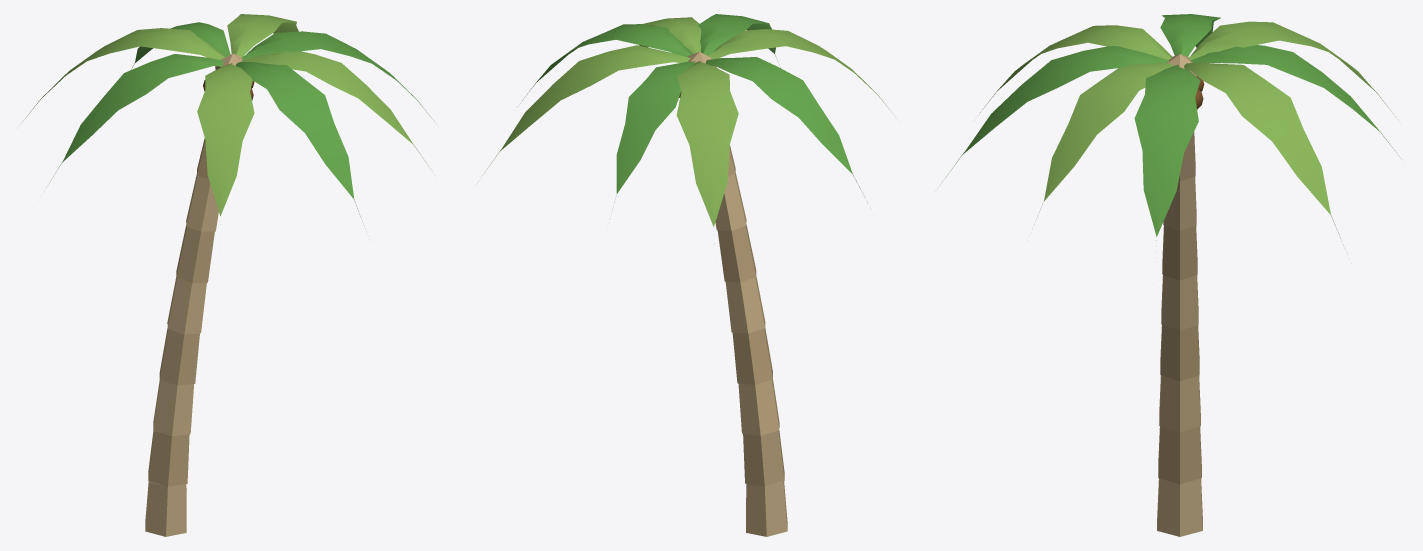
Rendered from beach_palm_tall.glb.
The picture shows the model from 3 angles, left to right: view 1: azimuth 30°, elevation 25°; view 2: azimuth 150°, elevation 25°; view 3: azimuth 270°, elevation 25°; orthographic projection. The views are drawn at different scales.
Visible parts, largest first — view 1: beach_palm_tall; view 2: beach_palm_tall; view 3: beach_palm_tall.
Part boxes in pixels (x1,y1,x2,y2): beach_palm_tall: (21,14,434,536); beach_palm_tall: (478,14,894,536); beach_palm_tall: (942,14,1399,536).
Size of the model in its own units: 4.2 by 4.87 by 4.09.
1 material, 1 textured.
